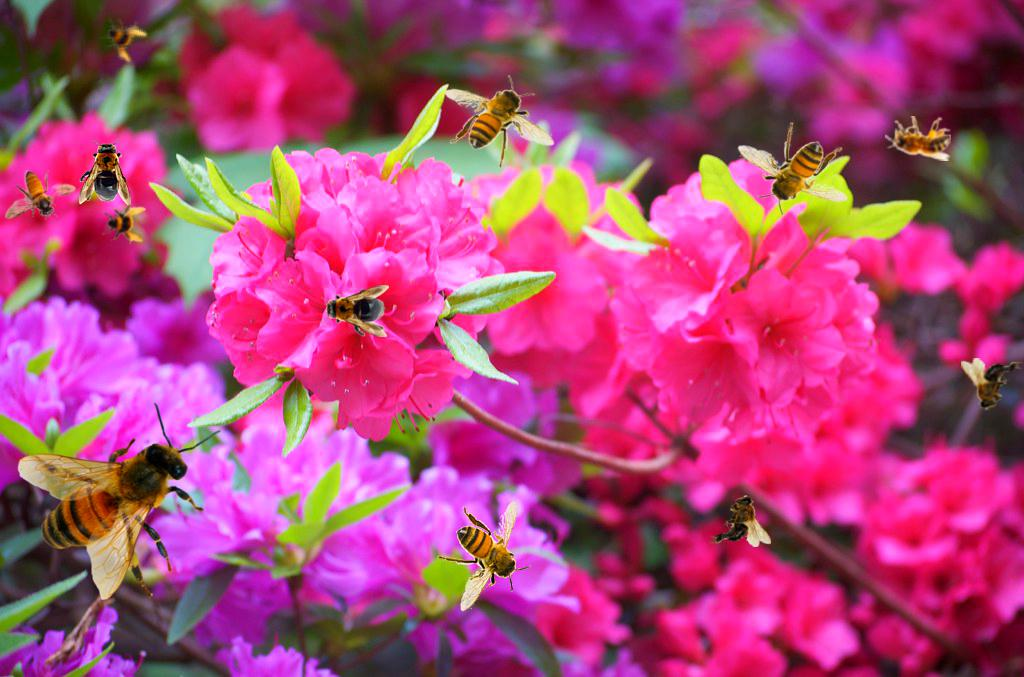Bee: (17, 401, 221, 600), (437, 501, 531, 612), (444, 75, 555, 169), (737, 122, 848, 216), (93, 7, 153, 67), (5, 170, 76, 220), (79, 138, 131, 206), (321, 285, 389, 337), (709, 494, 771, 547), (961, 358, 1023, 411), (885, 116, 951, 161), (102, 200, 146, 244)
